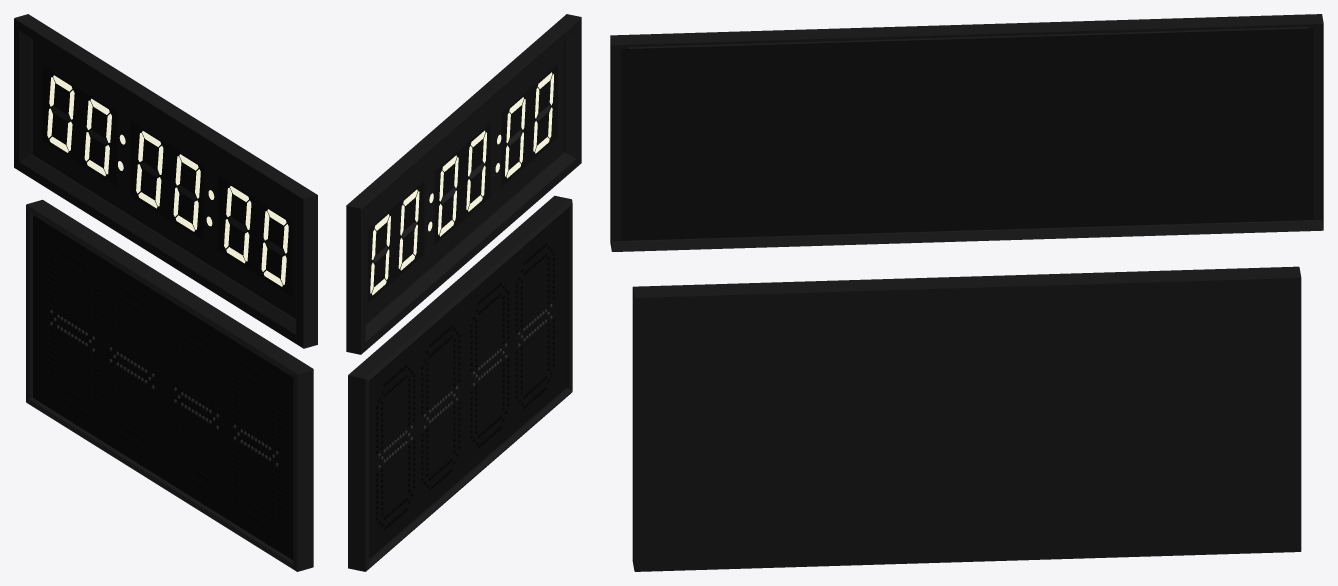
The model's file is counter.fbx.
3 views of the same model, side by side, from view 1: azimuth 30°, elevation 25°; view 2: azimuth 150°, elevation 25°; view 3: azimuth 270°, elevation 25° (orthographic). The views are drawn at different scales.
Visible parts, largest first — view 1: Object4844; view 2: Object4844; view 3: Object4844.
Part boxes in pixels (x1,y1,x2,y2): Object4844: (14, 14, 317, 571); Object4844: (346, 14, 581, 571); Object4844: (610, 14, 1323, 571).
Size of the model in its own units: 2.01 by 14.37 by 17.73.
